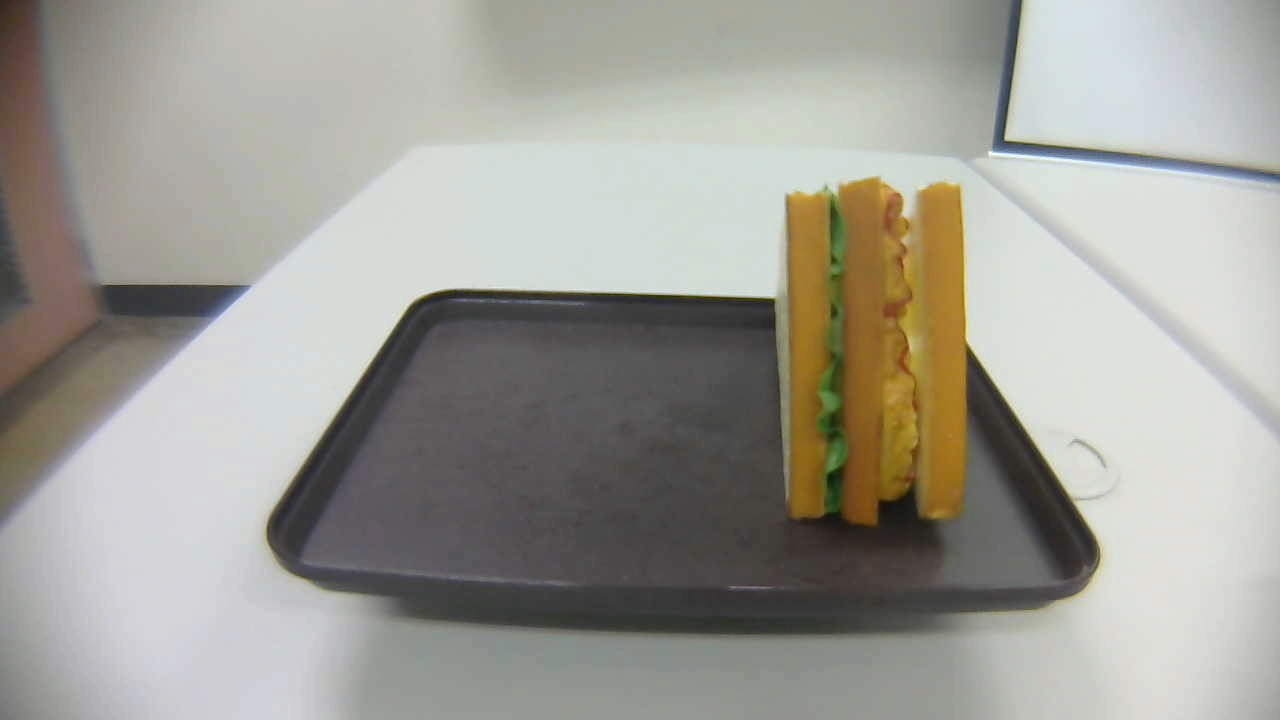sandwich: (775, 176, 969, 531)
